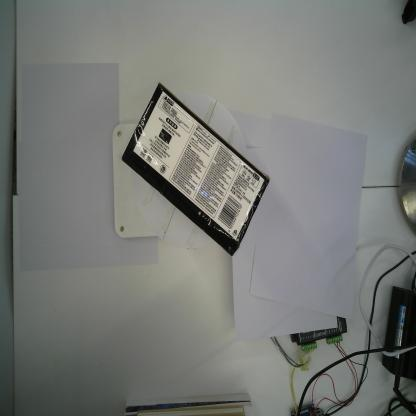Tissue: (120, 80, 271, 258)
